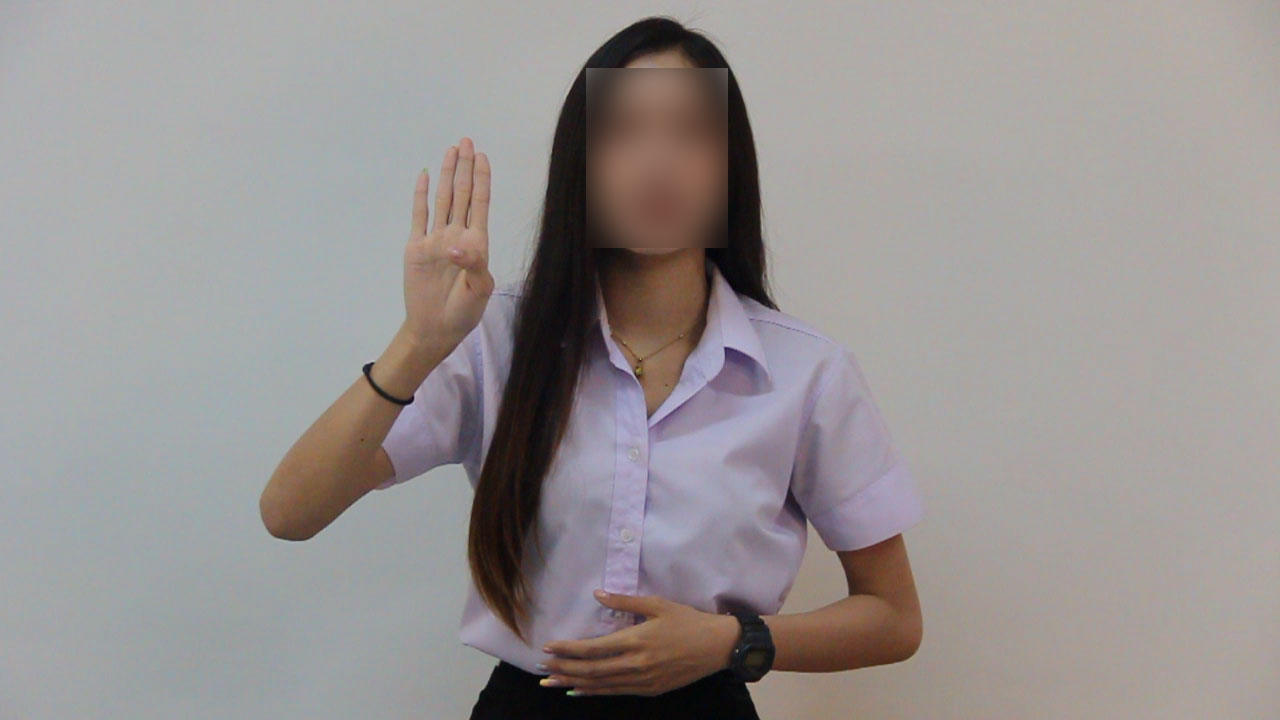bor: (382, 122, 511, 374)
